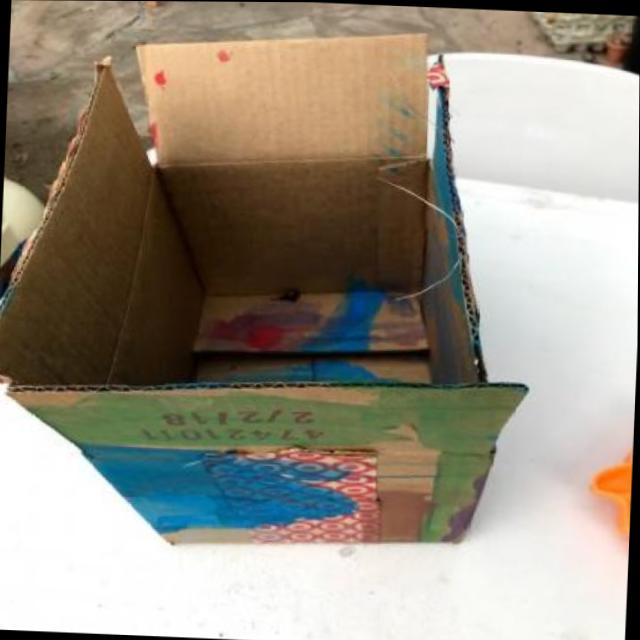box: (0, 13, 532, 602)
